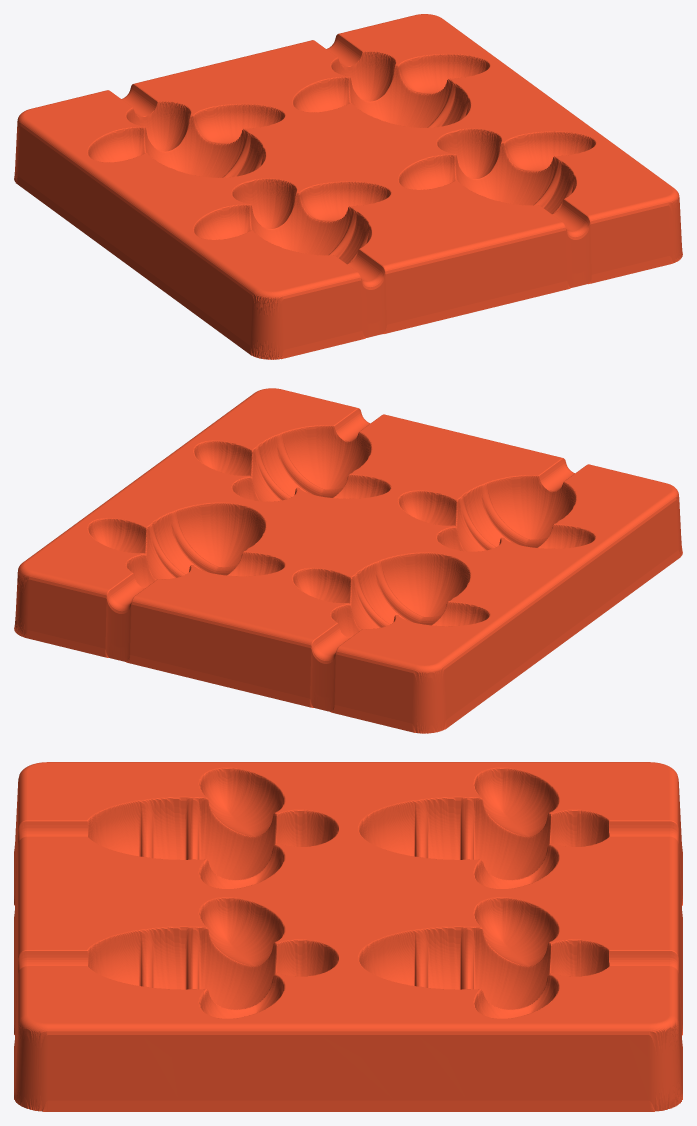
File: mold.glb
3 views of the same model, one above another, from view 1: azimuth 30°, elevation 25°; view 2: azimuth 150°, elevation 25°; view 3: azimuth 270°, elevation 25° (orthographic). The views are drawn at different scales.
Parts seen in each view (by area): view 1: geometry_0; view 2: geometry_0; view 3: geometry_0.
Boxes of the visible parts, left/top/right/bottom form: geometry_0: left=14, top=14, right=682, bottom=359; geometry_0: left=14, top=388, right=682, bottom=733; geometry_0: left=14, top=762, right=682, bottom=1111.
Size of the model in its own units: 0.1726 by 0.0245 by 0.1796.
